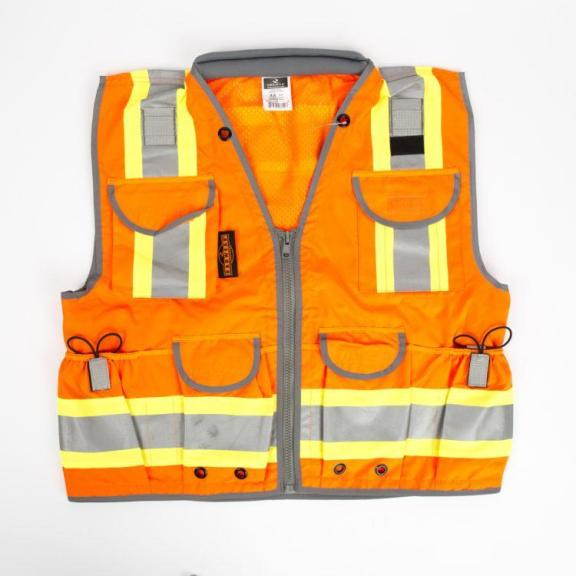safety_vest: (53, 47, 516, 498)
